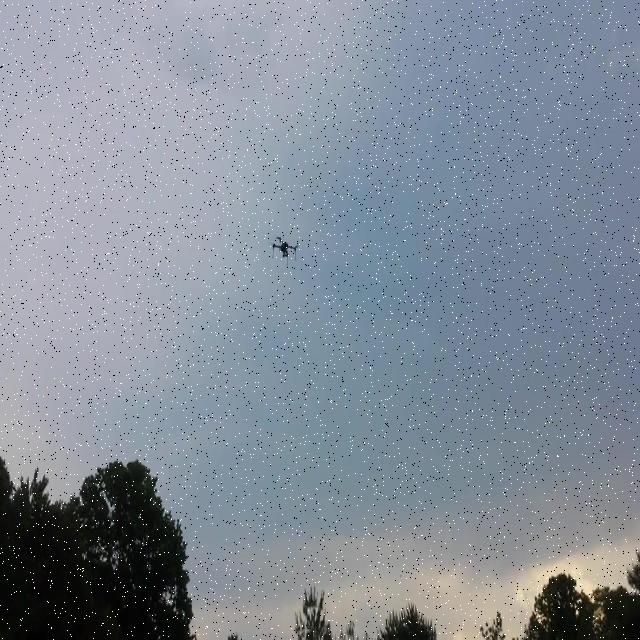UAV: (270, 236, 300, 266)
